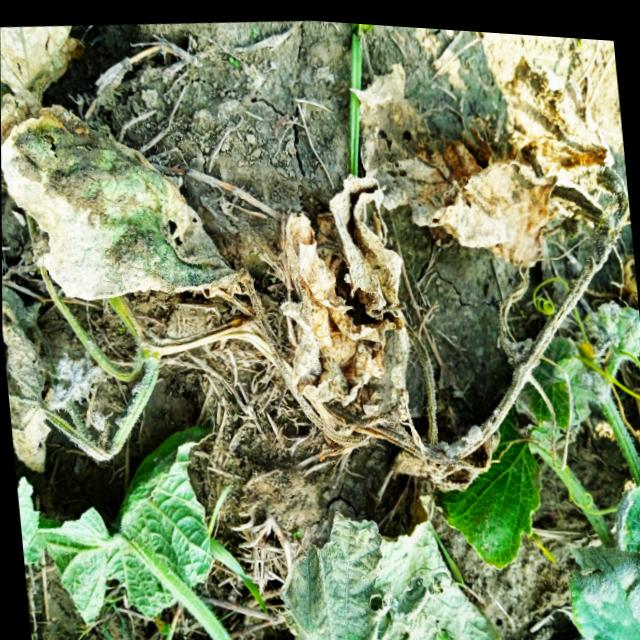Bacterial-Wilt: (351, 46, 616, 263), (1, 102, 248, 299), (277, 163, 406, 403), (2, 279, 63, 473)
